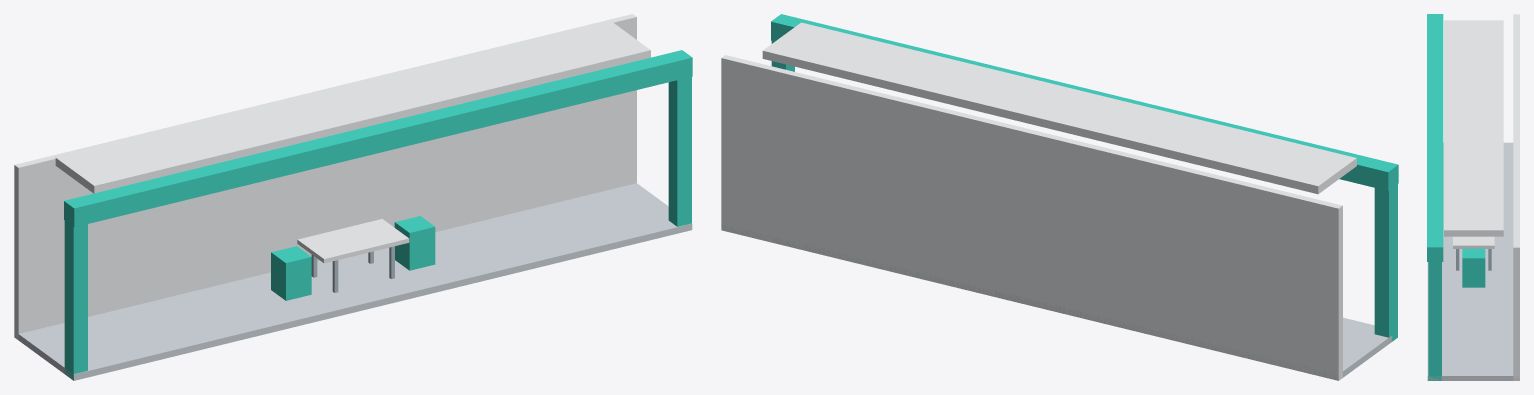
3 views of the same model, side by side, from view 1: azimuth 30°, elevation 25°; view 2: azimuth 150°, elevation 25°; view 3: azimuth 270°, elevation 25° (orthographic). The views are drawn at different scales.
Parts seen in each view (by area): view 1: Exhibition Booth Concept; view 2: Exhibition Booth Concept; view 3: Exhibition Booth Concept.
Part boxes in pixels (x1,y1,x2,y2): Exhibition Booth Concept: [14, 14, 692, 380]; Exhibition Booth Concept: [721, 14, 1398, 380]; Exhibition Booth Concept: [1427, 14, 1519, 380].
Size of the model in its own units: 12 by 3.34 by 2.01.
